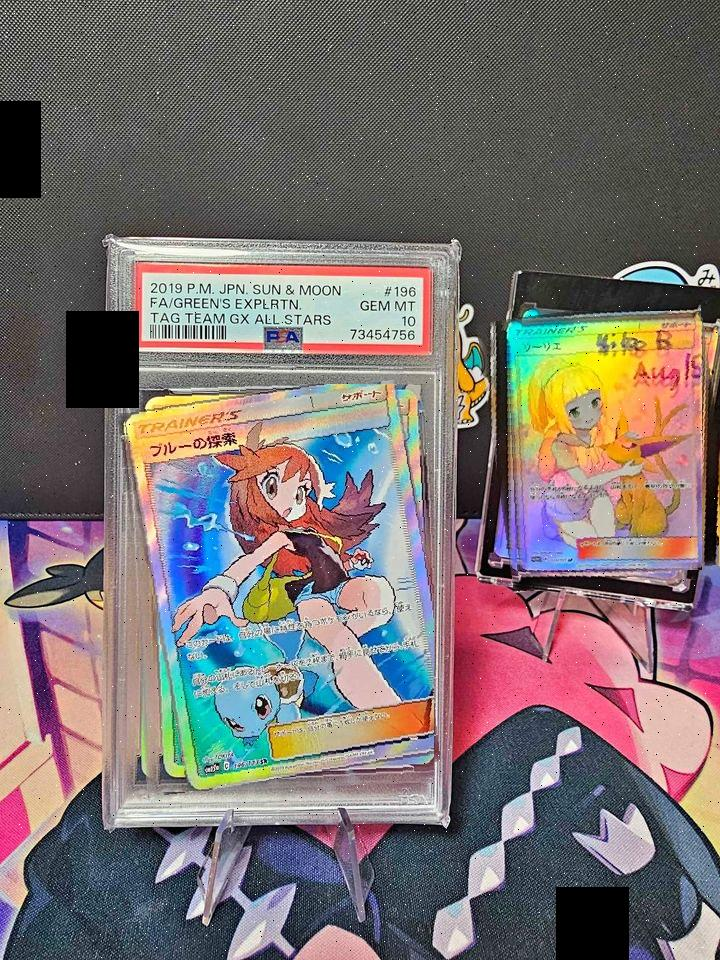card: (125, 384, 434, 792), (507, 311, 702, 571)
